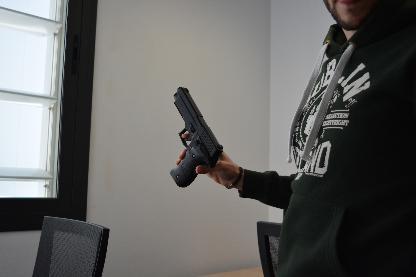pistol: (168, 86, 224, 188)
